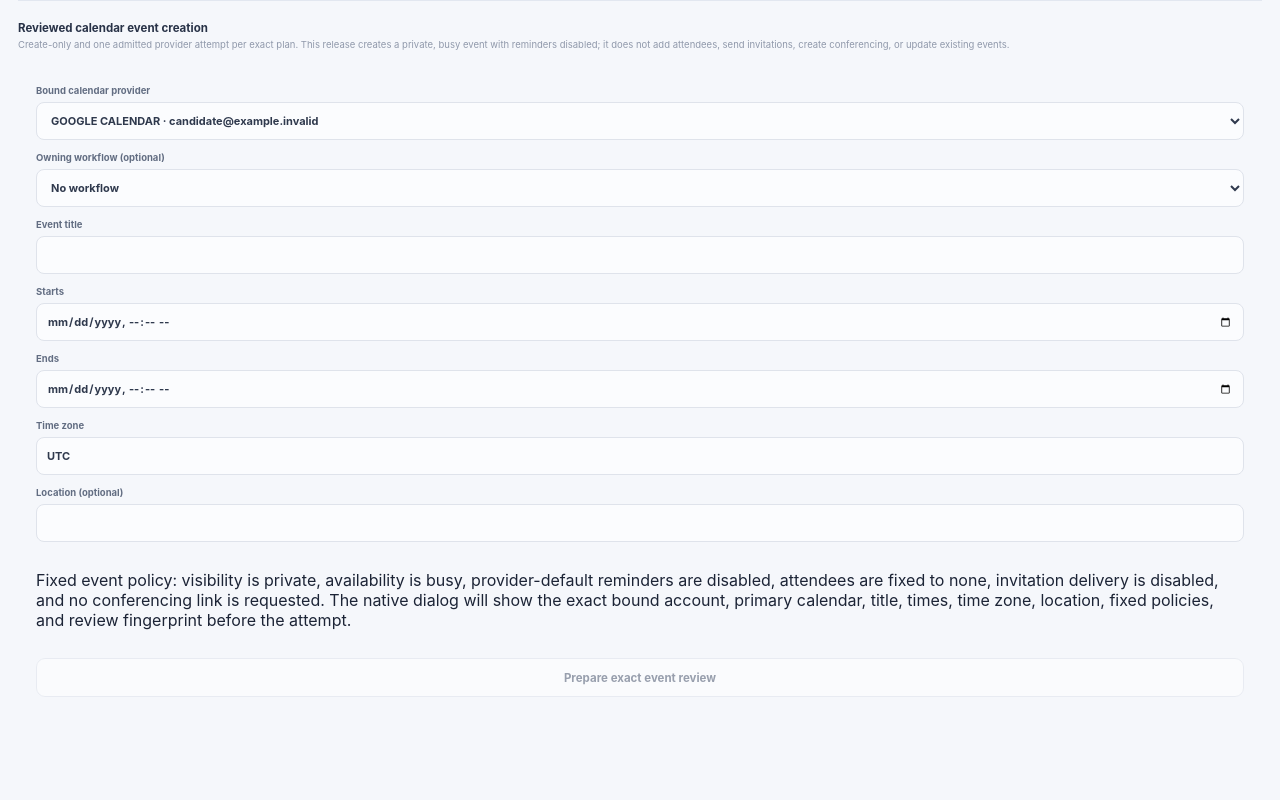
Scenario: calendar event panel › never exposes retry for a claimed PLANNED attempt
Select "Example employer · Software Engineer · workflow-1" in the dropdown labelled "Owning workflow (optional)" at [640, 188], box [36,169,1244,207]
Type "Interview with Example Co" into the field labelled "Event title" at [640, 255], box [36,236,1244,274]
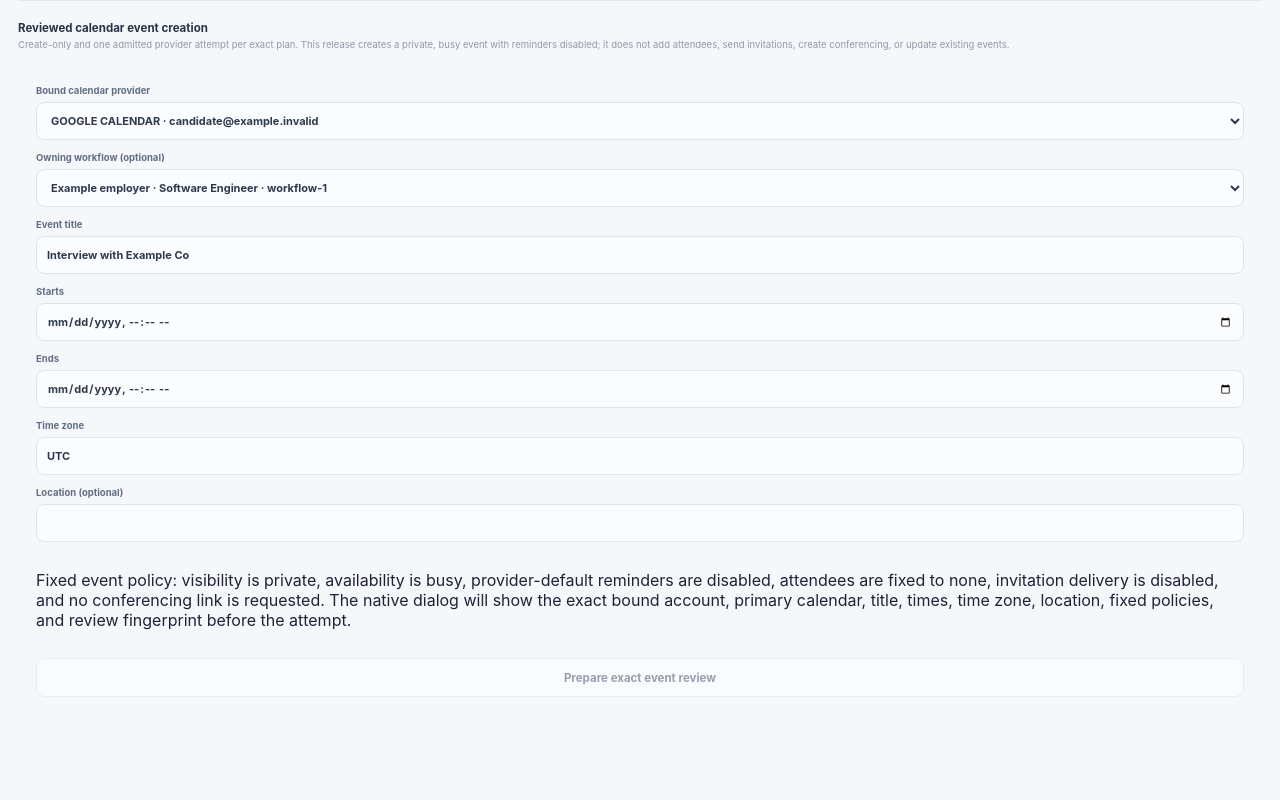
Type "2026-10-15T10:00" into the field labelled "Starts" at [640, 322], box [36,303,1244,341]
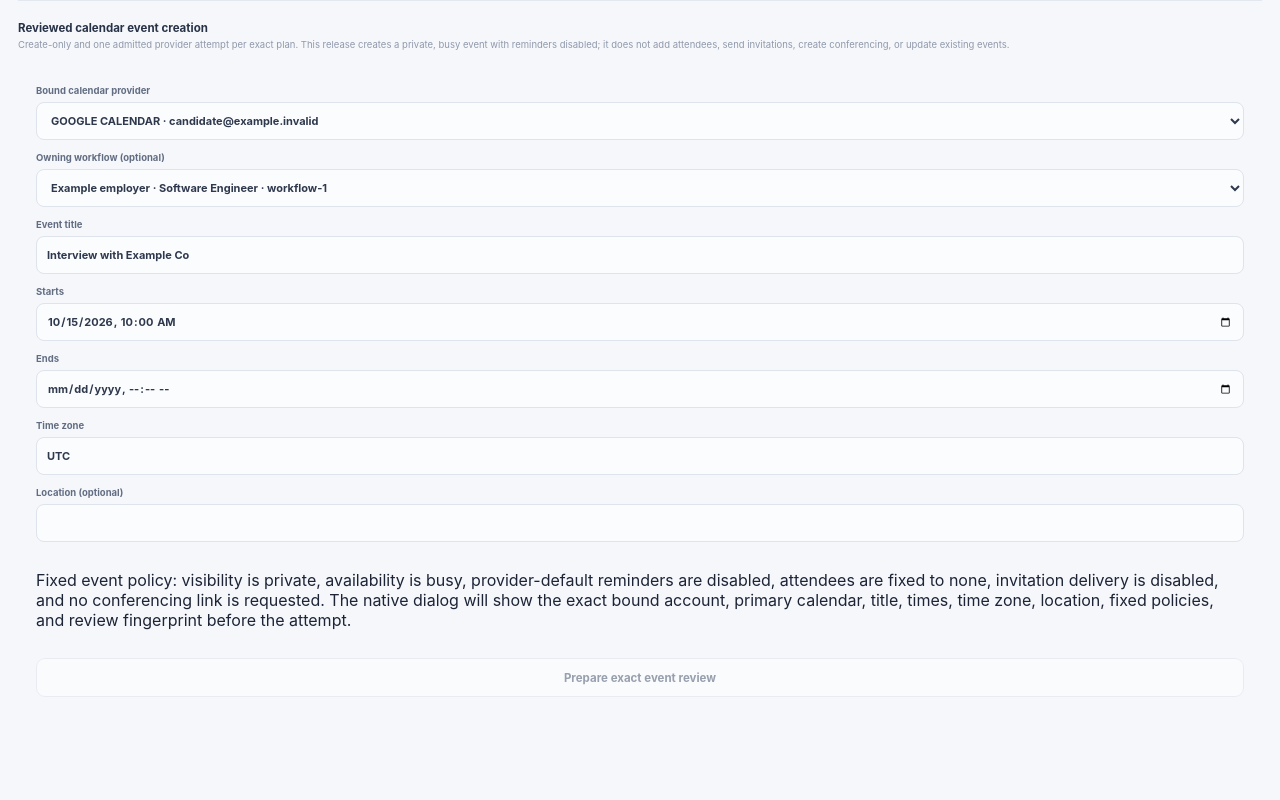
Type "2026-10-15T11:00" into the field labelled "Ends" at [640, 389], box [36,370,1244,408]
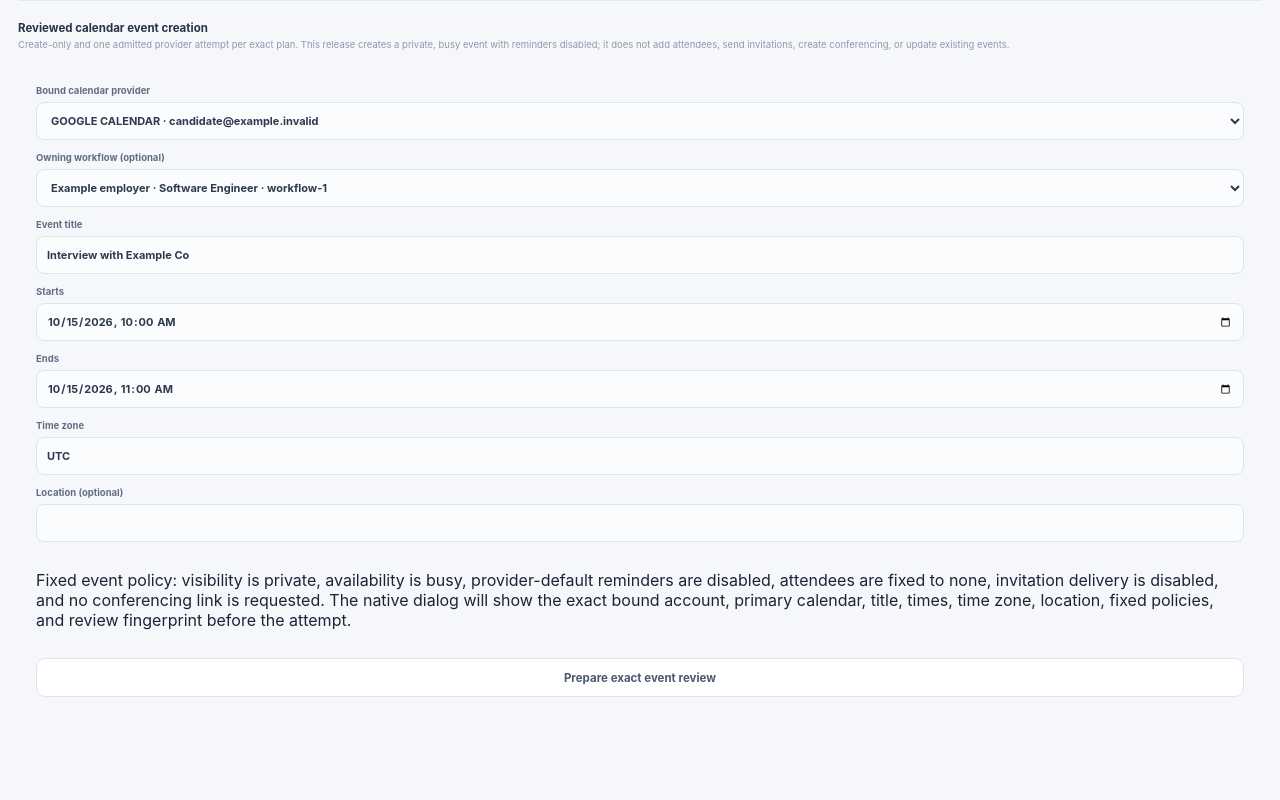
Type "Conference room 3" into the field labelled "Location (optional)" at [640, 523], box [36,504,1244,542]
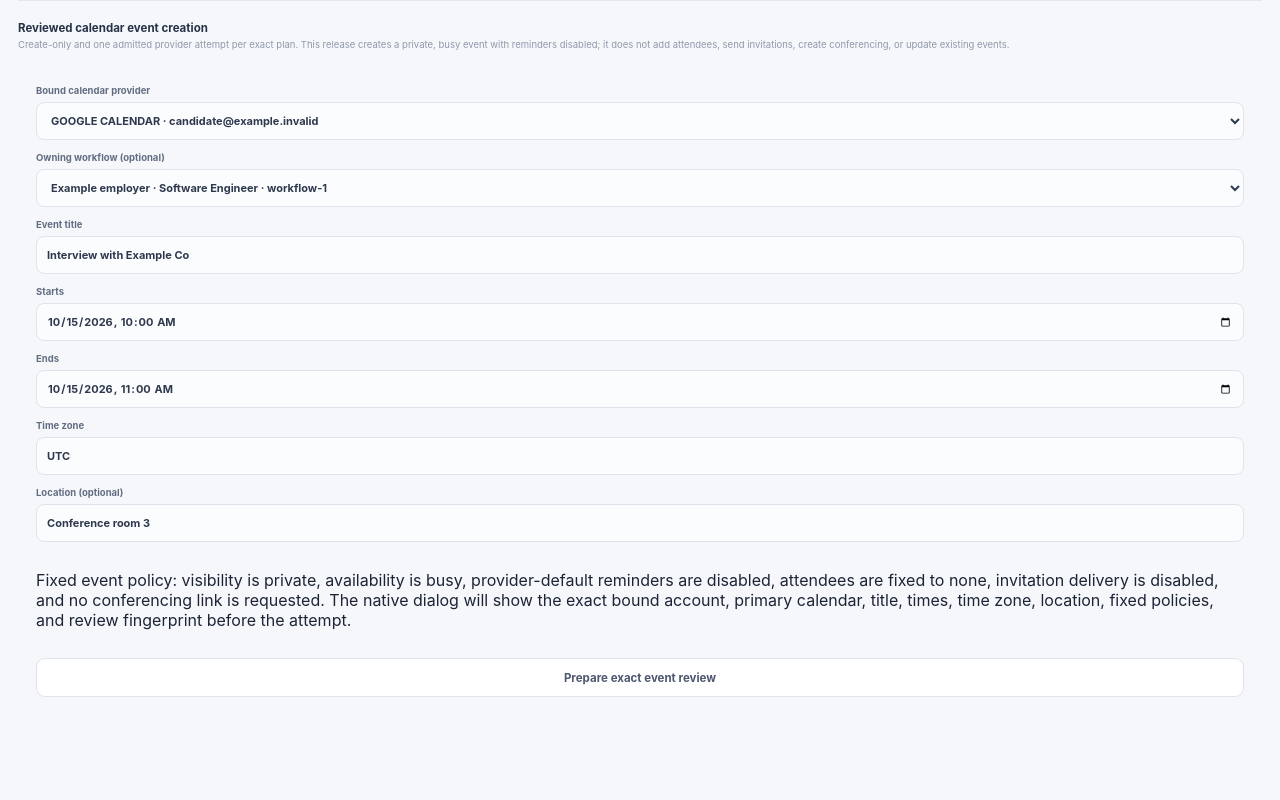
Click the button "Prepare exact event review" at [640, 678], box [36,658,1244,697]
(page scrolled)
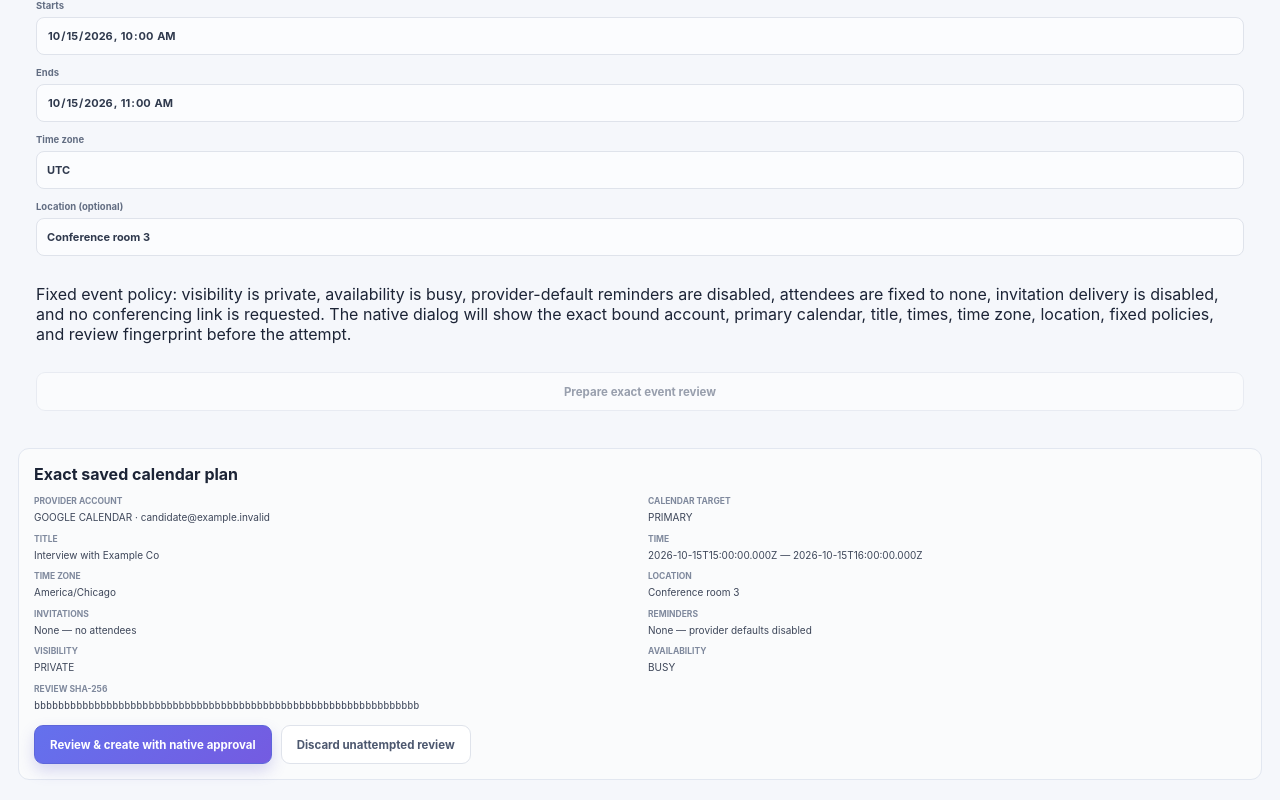
expect the heading "Exact saved calendar plan" is shown: met, box [34,464,238,484]
Click the button "Review & create with native approval" at [153, 744], box [34,725,272,764]
(page scrolled)
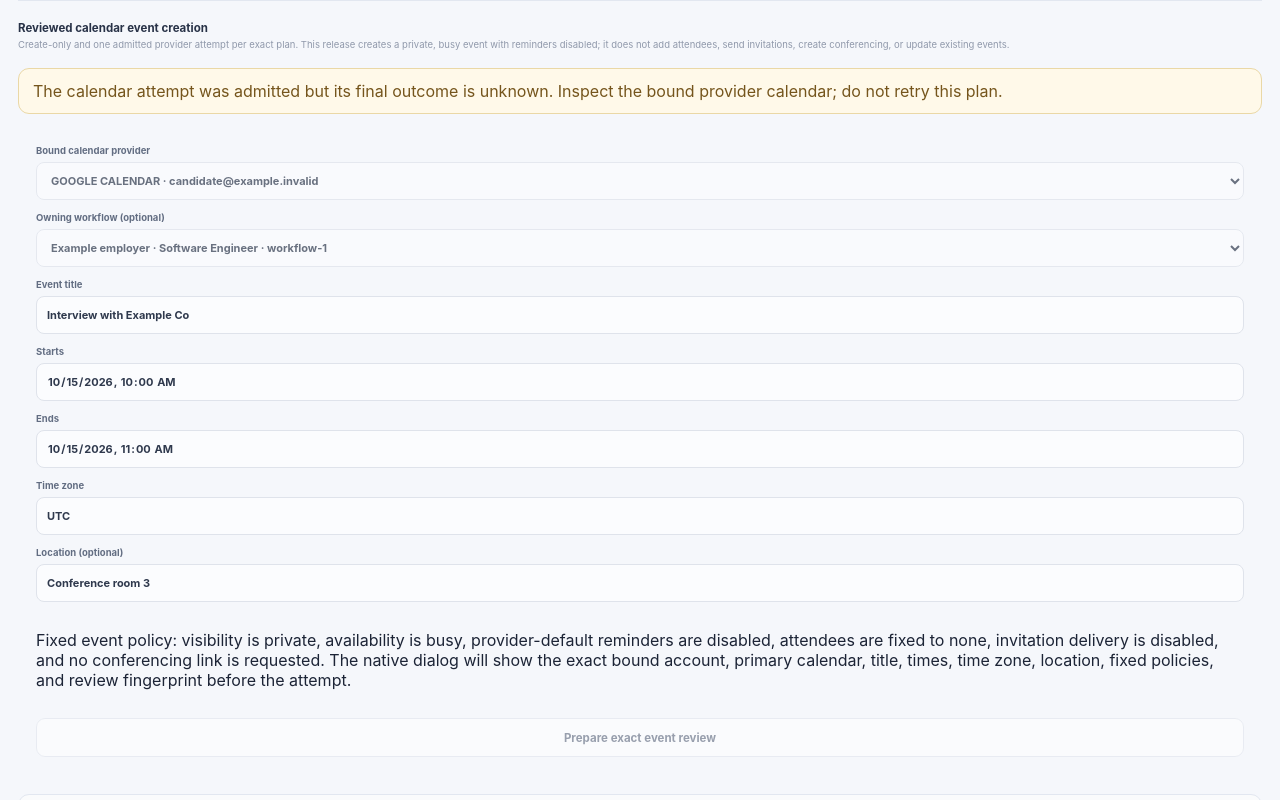
expect the text "attempt was admitted" is shown: met, box [33,81,1002,101]
expect the button "Review & create with native approval" is gone: met
